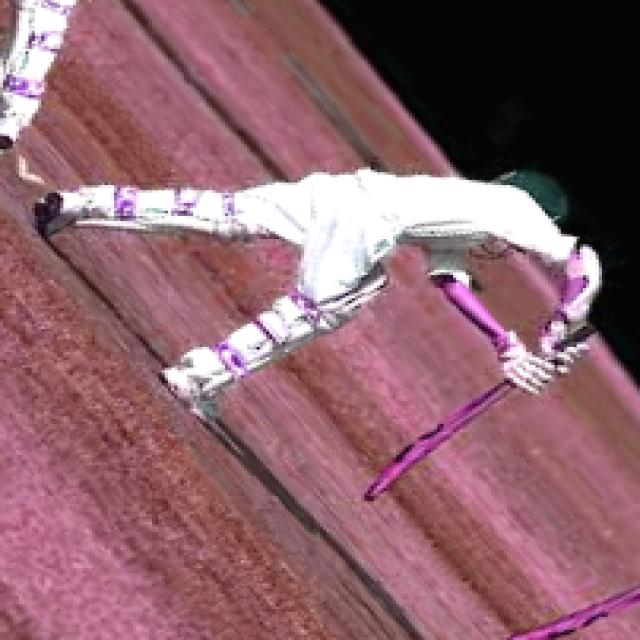bat: (355, 378, 522, 508)
